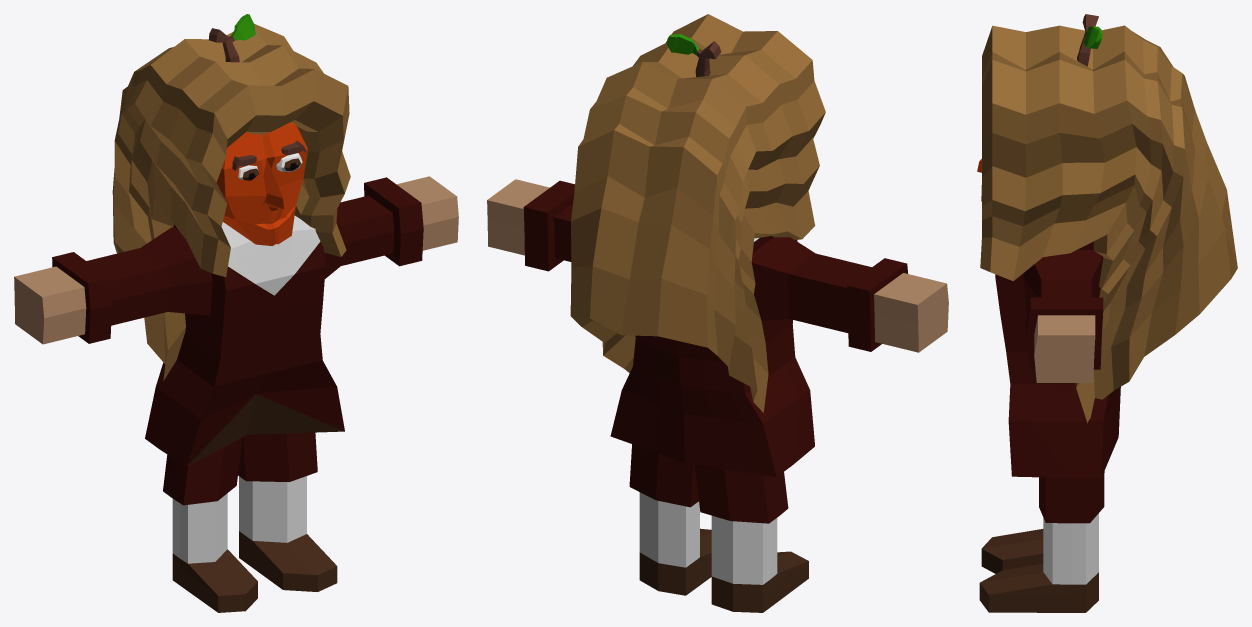
The model's file is Newton.fbx.
3 renders of one model, left to right at view 1: azimuth 30°, elevation 25°; view 2: azimuth 150°, elevation 25°; view 3: azimuth 270°, elevation 25°, orthographic. The views are drawn at different scales.
Visible parts, largest first — view 1: Cube.004; view 2: Cube.004; view 3: Cube.004.
Boxes of the visible parts, x1,y1,x2,y2 form: Cube.004: (14, 14, 458, 612); Cube.004: (487, 14, 948, 612); Cube.004: (977, 14, 1237, 612).
Bounding box in the file's own units: 1848 × 2303 × 960.
